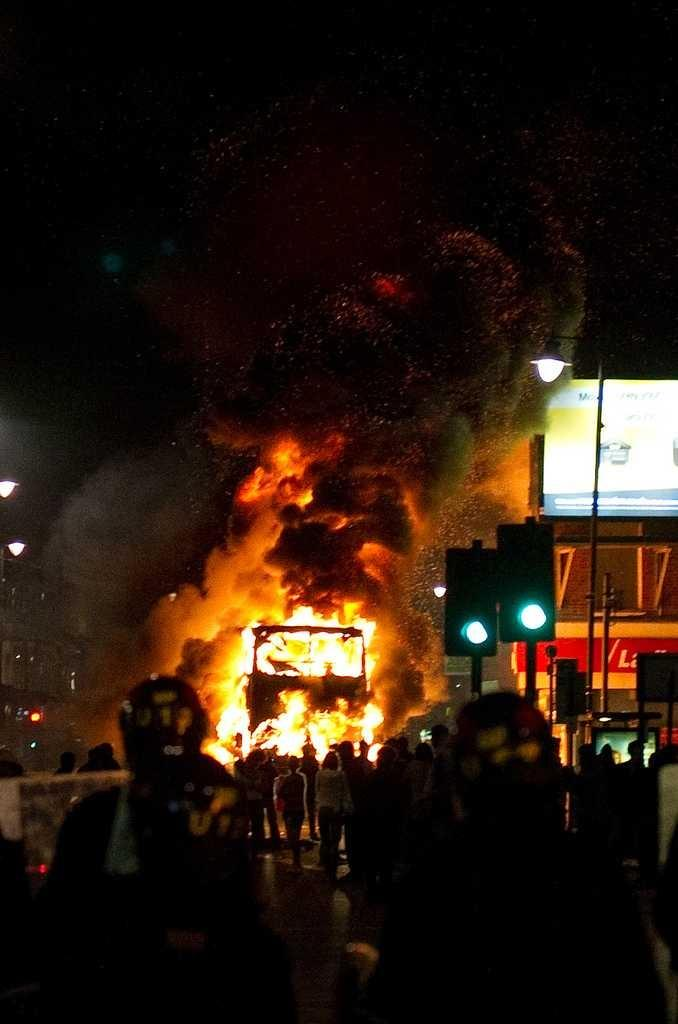fire: (280, 635, 358, 672)
smoke: (178, 40, 515, 280)
